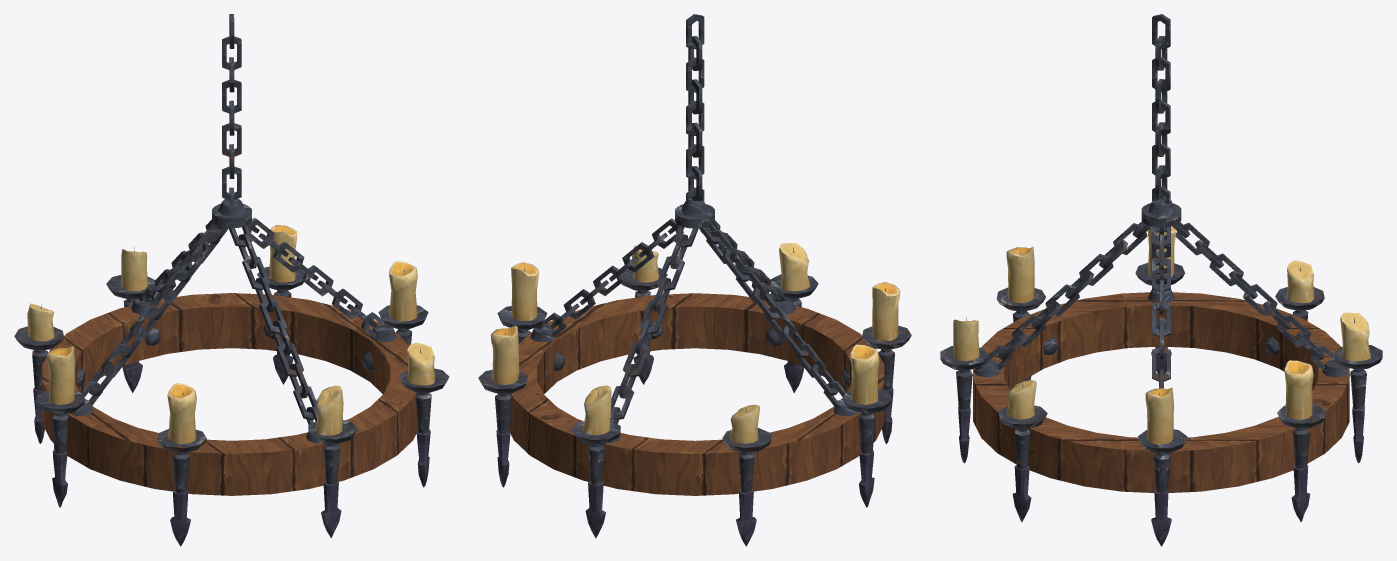
The model's file is furn_chandelier.glb.
The picture shows the model from 3 angles, left to right: view 1: azimuth 30°, elevation 25°; view 2: azimuth 150°, elevation 25°; view 3: azimuth 270°, elevation 25°; orthographic projection.
Visible parts, largest first — view 1: model; view 2: model; view 3: model.
Part boxes in pixels (x1,y1,x2,y2): model: (14,14,449,546); model: (478,14,911,546); model: (940,14,1382,546).
Size of the model in its own units: 1.17 by 1.31 by 1.17.
3 materials, 3 textured.
